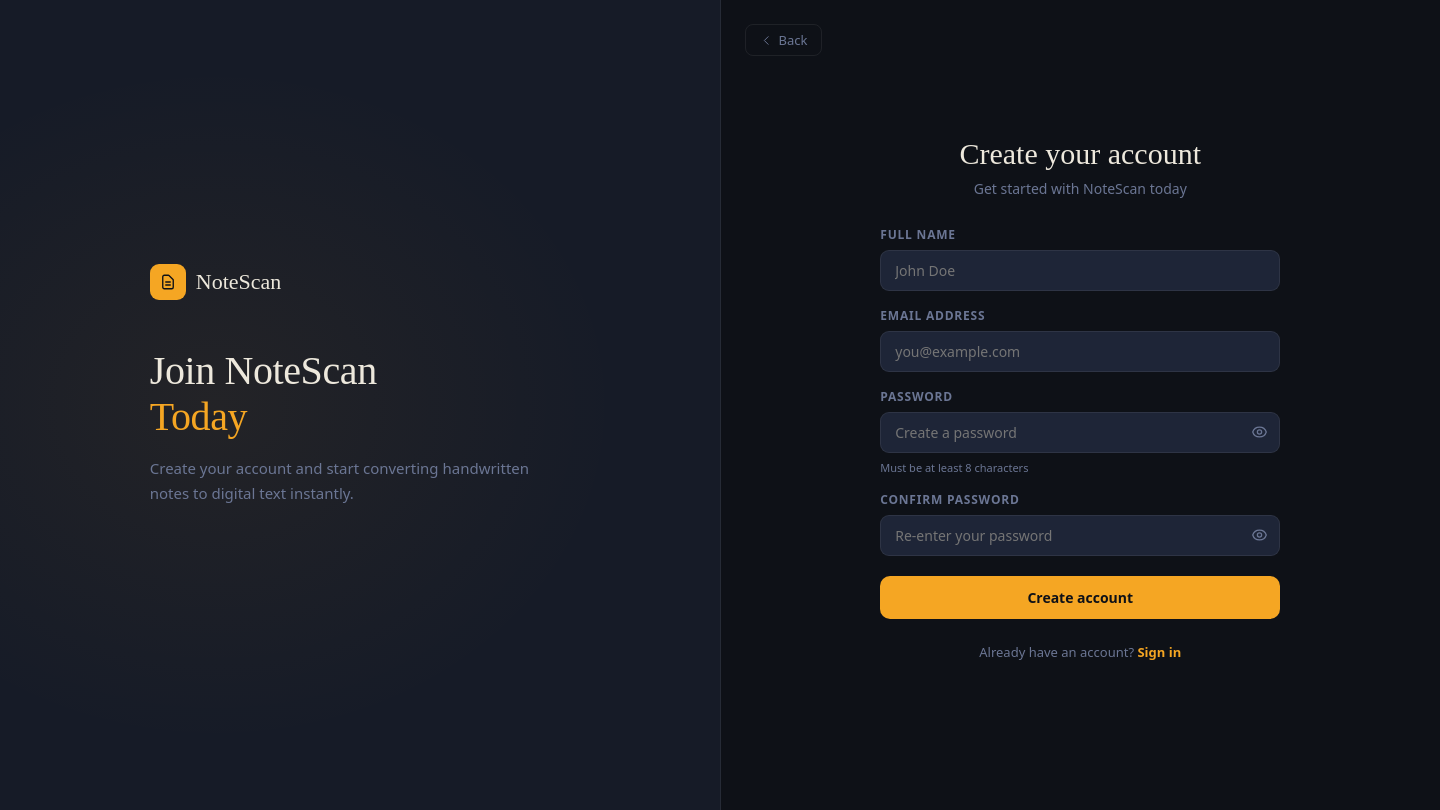
Scenario: SignUp › Client-side validation › shows error when full name is empty
Step 1. Type "a@b.com" into the field with placeholder "you@example.com" → (1080, 351), box [880, 330, 1280, 372]
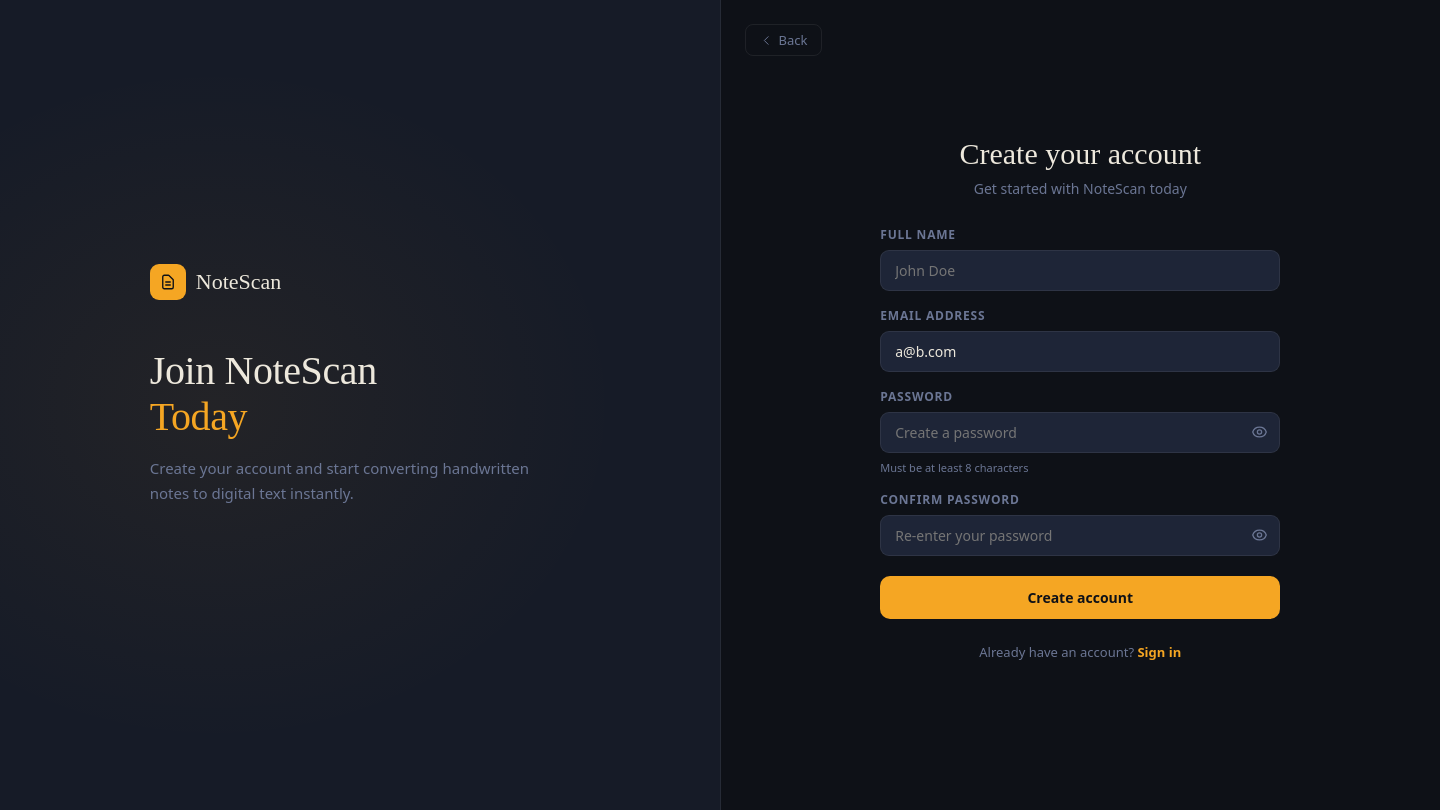
Step 2. Type "pass1234" into the password field with placeholder "Create a password" → (1080, 432), box [880, 412, 1280, 452]
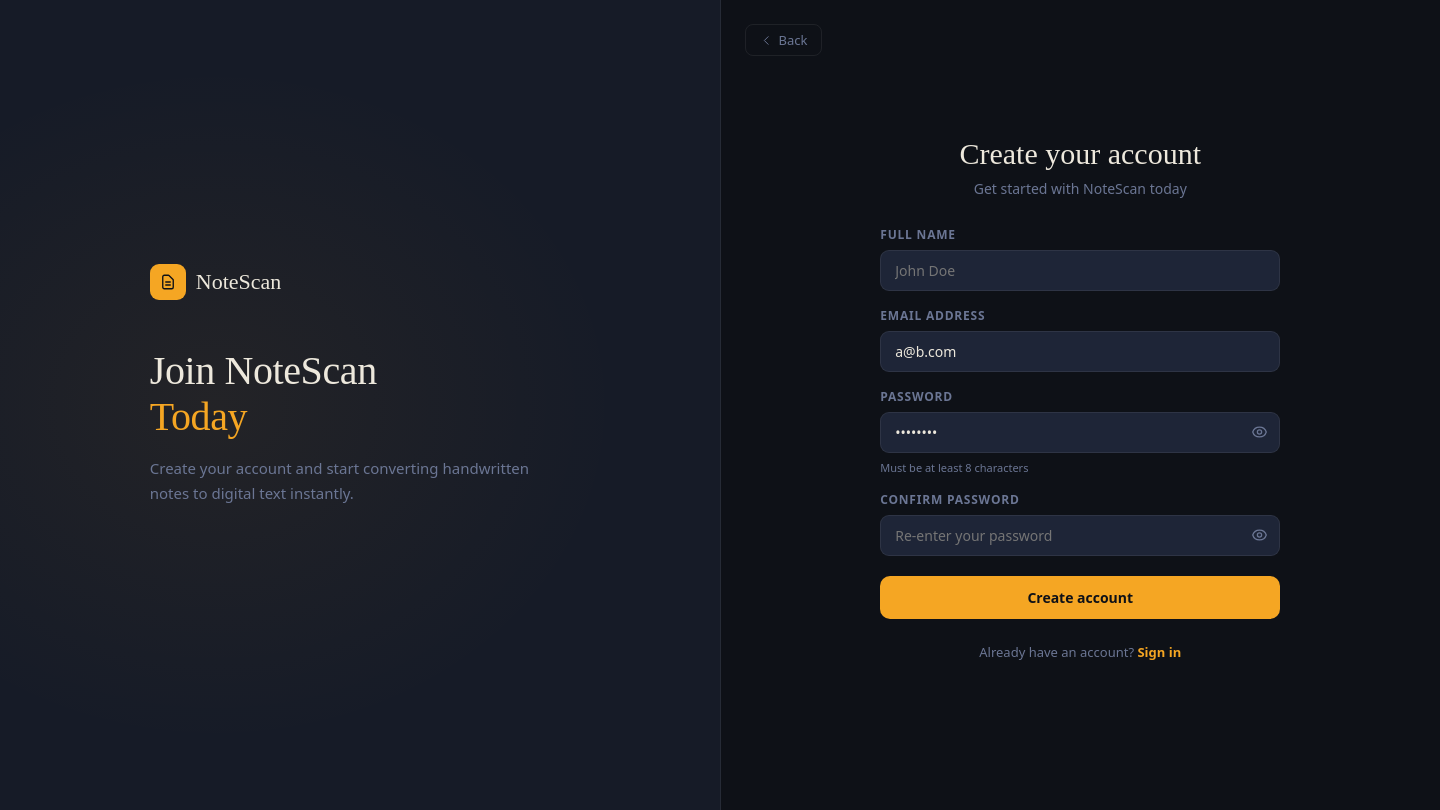
Step 3. Type "pass1234" into the password field with placeholder "Re-enter your password" → (1080, 535), box [880, 514, 1280, 556]
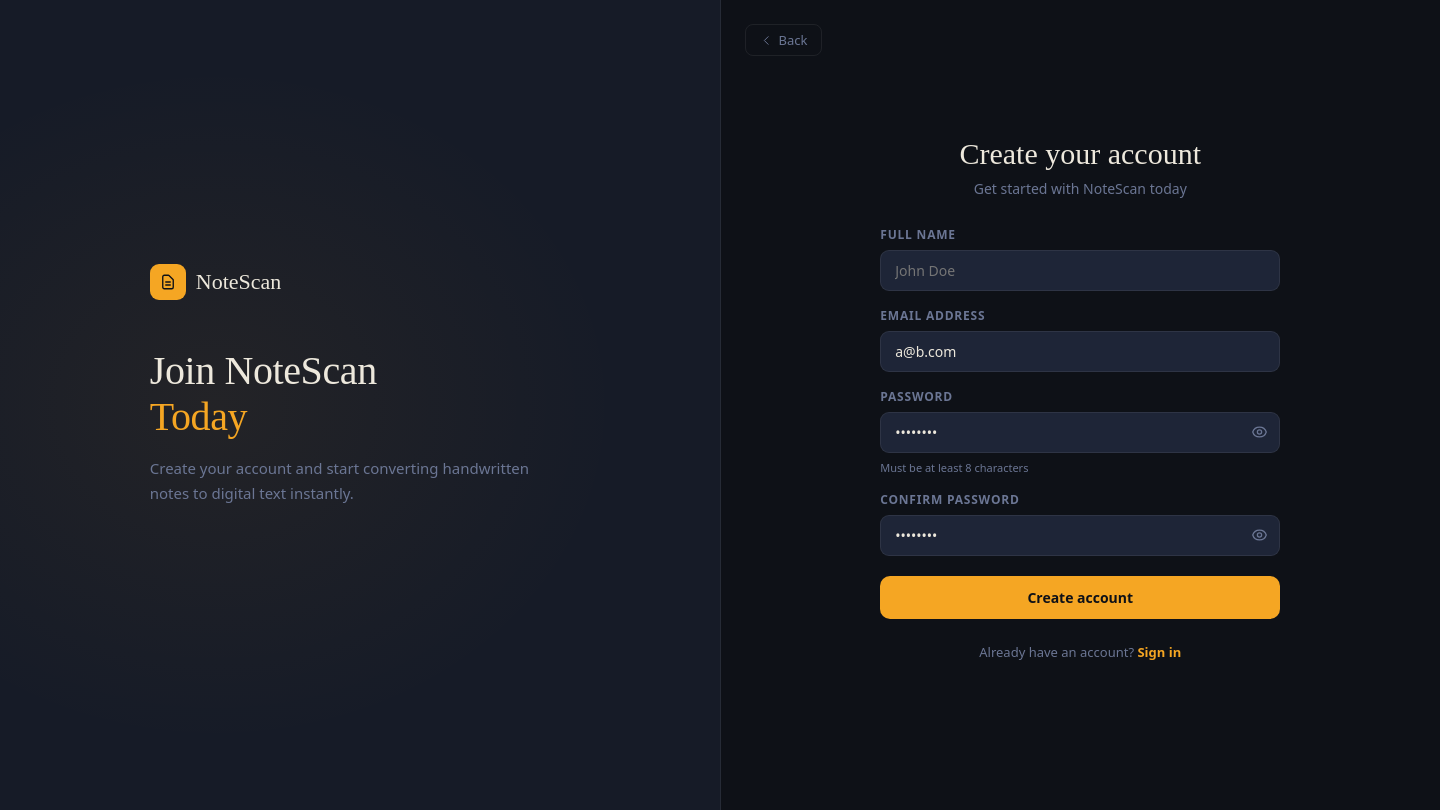
Step 4. Submit the form named "Create account", box [880, 226, 1280, 618]
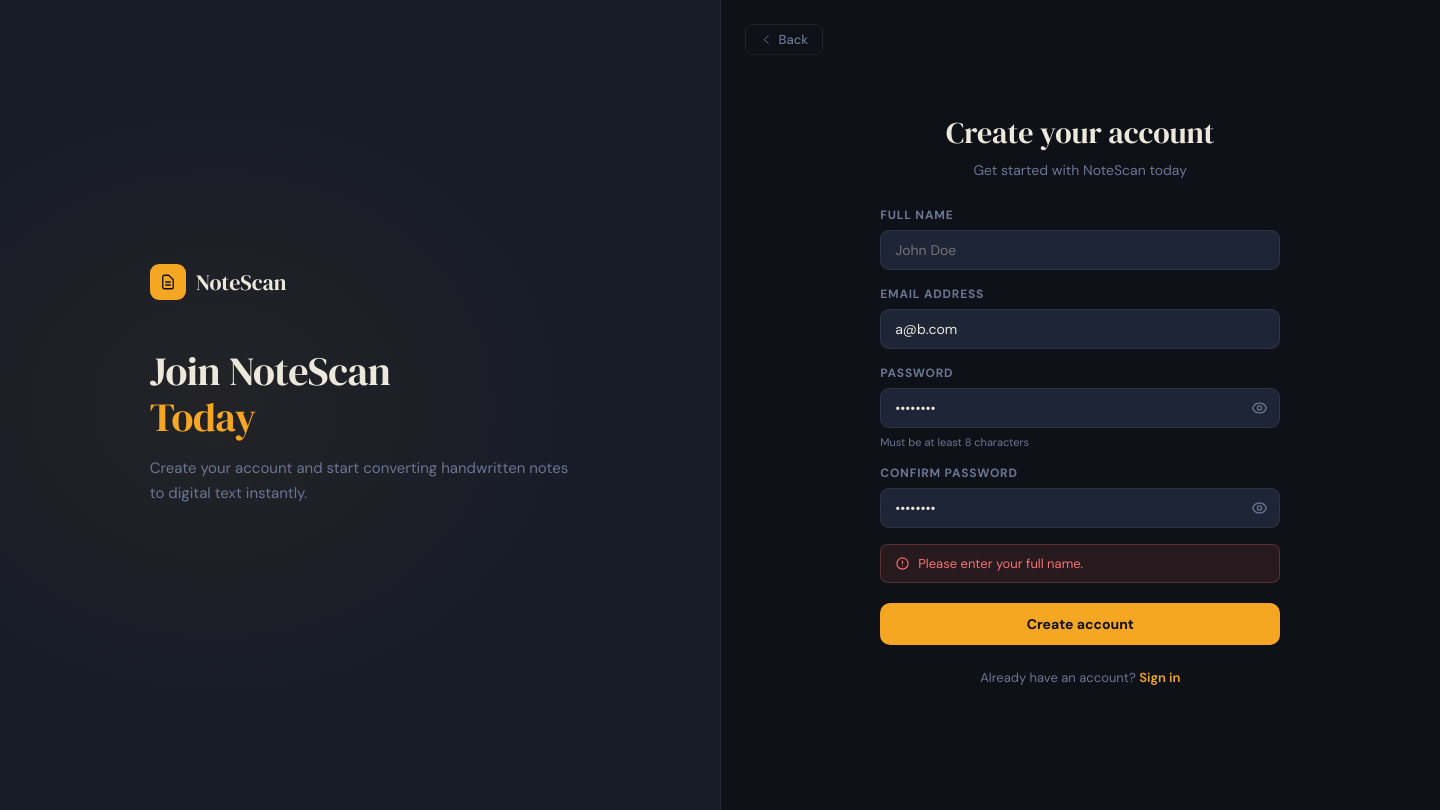
Expected: the text "Please enter your full name." is shown, [918, 554, 1083, 572]
